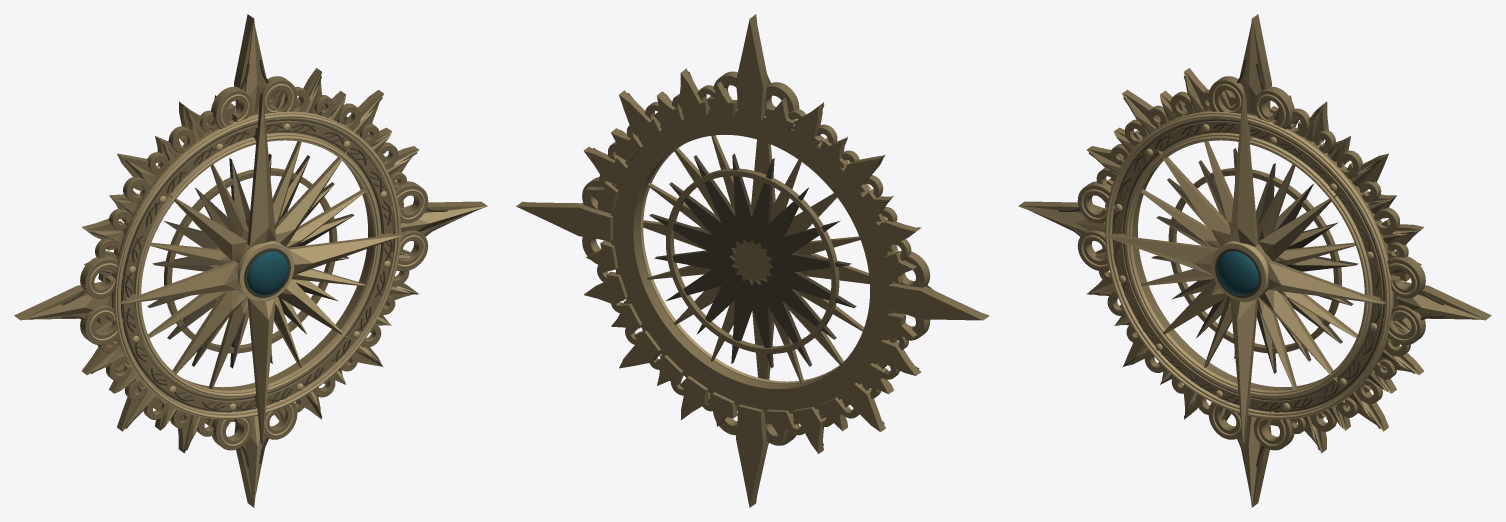
The model's file is sunstone.glb.
3 views of the same model, side by side, from view 1: azimuth 30°, elevation 25°; view 2: azimuth 150°, elevation 25°; view 3: azimuth 330°, elevation 25° (orthographic).
Visible parts, largest first — view 1: Engraving bed_export, Outer raised rim_export, Inner raised rim_export, Cast annular frame_export, Outer moulding crest_export, Inner moulding crest_export, Rose needle 00_export, Inner open support hoop_export, Rose needle 08_export, Recessed engraved annular field_export, Rose needle 12_export, Rose needle 04_export (+32 smaller); view 2: Cast annular frame_export, Inner open support hoop_export, Cardinal outer spear 0_export, Cardinal outer spear 3_export, Cardinal outer spear 2_export, Cardinal outer spear 1_export, Inner raised rim_export, Hub backing_export, Rear intermediate ray 01_export, Rear intermediate ray 11_export, Rear intermediate ray 10_export, Rear intermediate ray 09_export (+48 smaller); view 3: Engraving bed_export, Outer raised rim_export, Inner raised rim_export, Cast annular frame_export, Outer moulding crest_export, Inner moulding crest_export, Rose needle 00_export, Inner open support hoop_export, Rose needle 08_export, Recessed engraved annular field_export, Rose needle 04_export, Rose needle 12_export (+32 smaller).
Boxes of the visible parts, x1,y1,x2,y2 form: Engraving bed_export: (122, 120, 392, 410); Outer raised rim_export: (113, 111, 400, 419); Inner raised rim_export: (133, 132, 381, 398); Cast annular frame_export: (111, 111, 393, 412); Outer moulding crest_export: (117, 114, 400, 418); Inner moulding crest_export: (137, 136, 380, 396); Rose needle 00_export: (247, 93, 275, 246); Inner open support hoop_export: (164, 168, 337, 353); Rose needle 08_export: (247, 298, 275, 444); Recessed engraved annular field_export: (121, 119, 393, 411); Rose needle 12_export: (120, 260, 238, 304); Rose needle 04_export: (287, 233, 403, 275); Cast annular frame_export: (611, 109, 894, 413); Inner open support hoop_export: (666, 168, 839, 353); Cardinal outer spear 0_export: (736, 15, 768, 120); Cardinal outer spear 3_export: (888, 283, 988, 320); Cardinal outer spear 2_export: (736, 404, 768, 507); Cardinal outer spear 1_export: (516, 202, 612, 241); Inner raised rim_export: (640, 145, 843, 383); Hub backing_export: (731, 239, 773, 282); Rear intermediate ray 01_export: (694, 155, 744, 243); Rear intermediate ray 11_export: (769, 264, 856, 307); Rear intermediate ray 10_export: (766, 274, 836, 339); Rear intermediate ray 09_export: (760, 278, 811, 366); Engraving bed_export: (1113, 120, 1383, 410); Outer raised rim_export: (1105, 111, 1392, 419); Inner raised rim_export: (1124, 132, 1372, 398); Cast annular frame_export: (1112, 110, 1394, 412); Outer moulding crest_export: (1105, 114, 1388, 418); Inner moulding crest_export: (1125, 136, 1368, 396); Rose needle 00_export: (1230, 93, 1258, 246); Inner open support hoop_export: (1168, 168, 1341, 353); Rose needle 08_export: (1230, 298, 1258, 444); Recessed engraved annular field_export: (1112, 119, 1384, 411); Rose needle 04_export: (1267, 260, 1385, 304); Rose needle 12_export: (1102, 233, 1218, 275).
Bounding box in the file's own units: 2 × 2 × 0.185.
